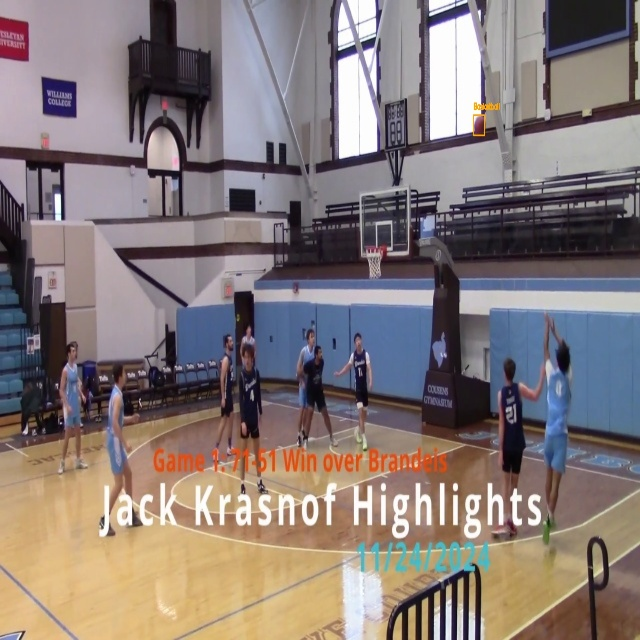Basketball: (474, 115, 485, 135)
